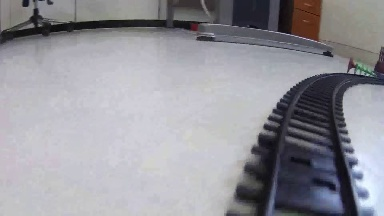tree: (345, 56, 384, 77)
